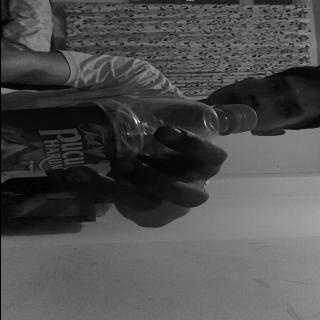plastic_bottles: (0, 96, 258, 174)
